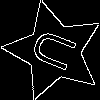U: (29, 26, 87, 77)
